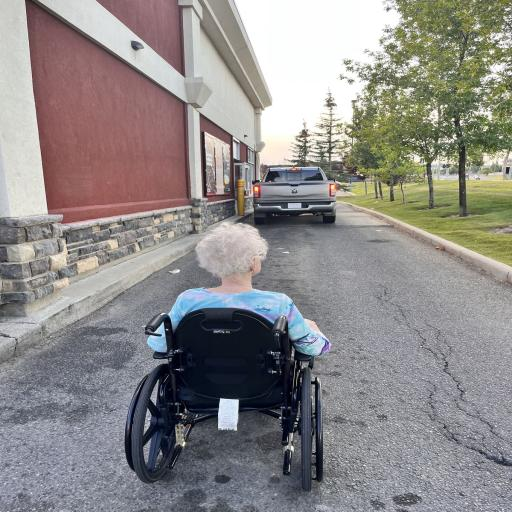book: (250, 160, 342, 231)
crosswalk: (146, 223, 334, 362)
glass_wall: (5, 198, 512, 511)
road: (121, 307, 327, 500)
